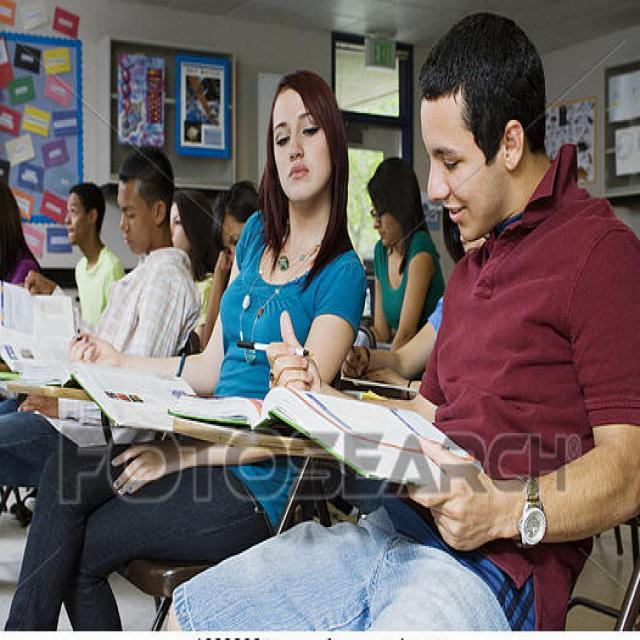cheating: (189, 57, 377, 403)
good: (383, 0, 640, 554)
